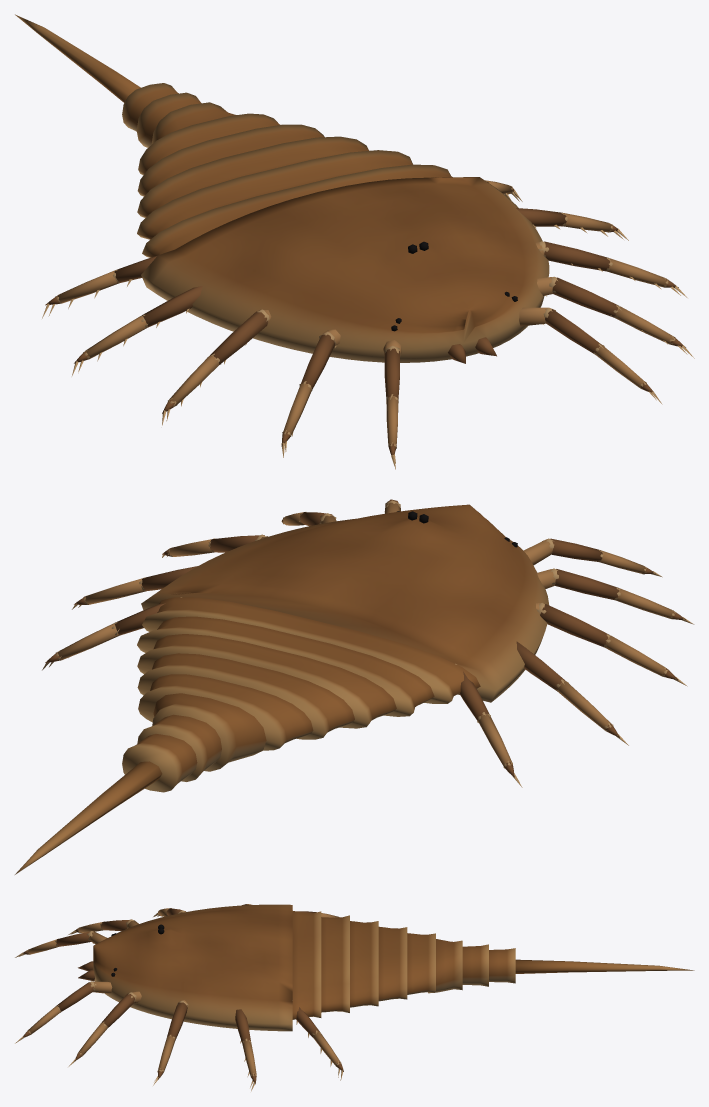
The model's file is OffacolusKingi.fbx.
3 views of the same model, one above another, from view 1: azimuth 30°, elevation 25°; view 2: azimuth 150°, elevation 25°; view 3: azimuth 270°, elevation 25° (orthographic). The views are drawn at different scales.
Visible parts, largest first — view 1: OffacolusKingi; view 2: OffacolusKingi; view 3: OffacolusKingi.
Boxes of the visible parts, x1,y1,x2,y2 form: OffacolusKingi: (15,14,694,469); OffacolusKingi: (15,499,694,874); OffacolusKingi: (15,904,694,1091).
Bounding box in the file's own units: 1.07 × 0.2157 × 1.71.
